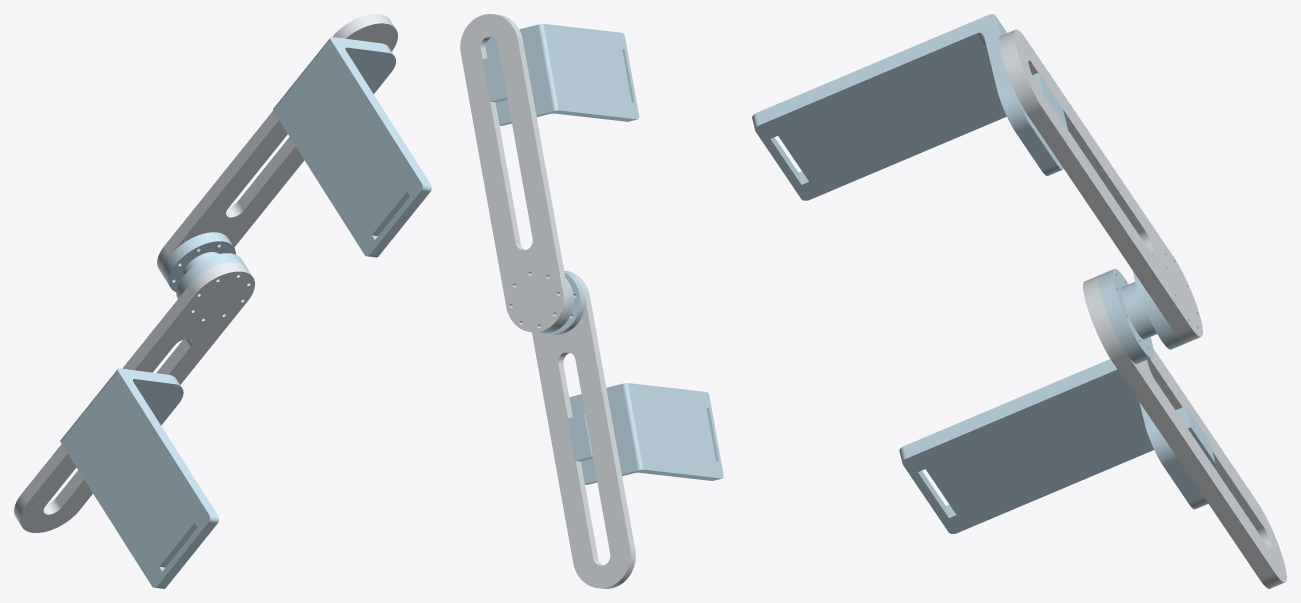
The model's file is knee_extension_sensor.gltf.
3 renders of one model, left to right at view 1: azimuth 30°, elevation 25°; view 2: azimuth 150°, elevation 25°; view 3: azimuth 270°, elevation 25°, orthographic. The views are drawn at different scales.
Visible parts, largest first — view 1: Part 1 (×5); view 2: Part 1 (×5); view 3: Part 1 (×5).
Boxes of the visible parts, <box> form: Part 1 (×5): <box>14,14,431,588</box>; Part 1 (×5): <box>460,14,723,588</box>; Part 1 (×5): <box>752,14,1286,588</box>.
Bounding box in the file's own units: 0.5007 × 0.8984 × 0.6333.
